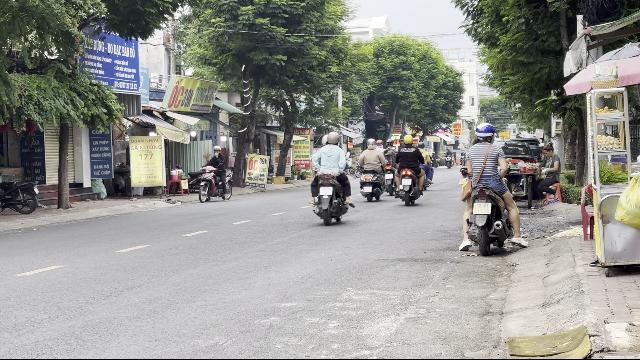helmet: (474, 123, 494, 143), (325, 131, 339, 145)
licenseplate: (474, 202, 491, 213), (320, 187, 332, 195)
motorcyclist: (456, 121, 524, 255), (308, 132, 354, 224)
